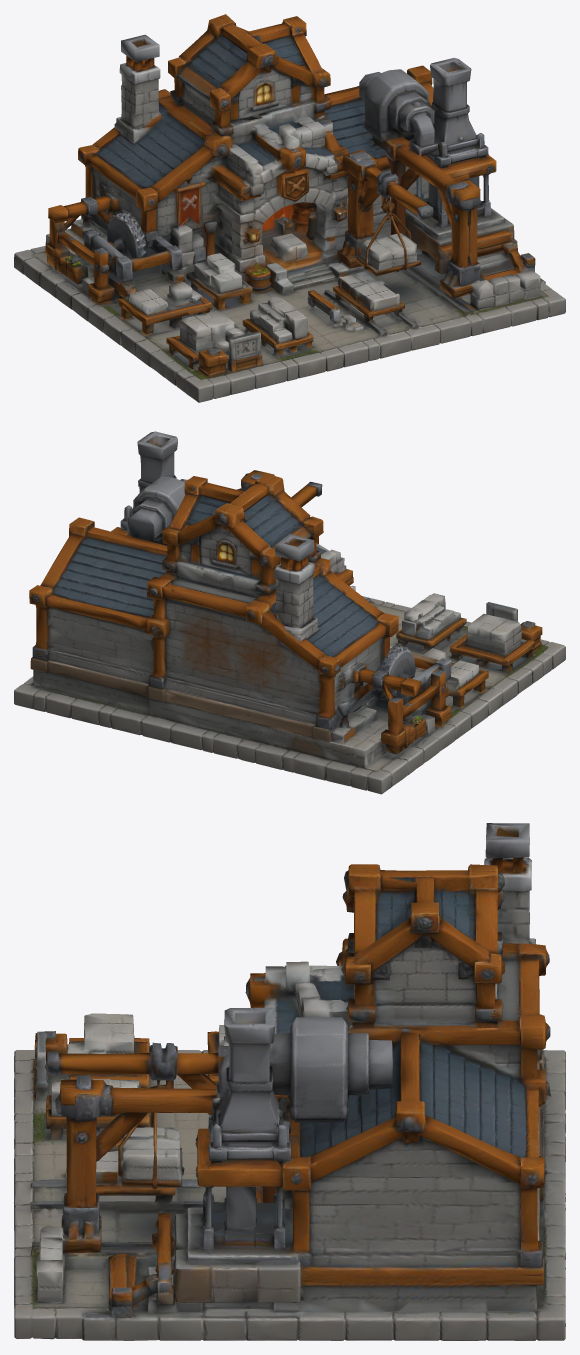
Rendered from stone_workshop_stage3.glb.
3 views of the same model, one above another, from view 1: azimuth 30°, elevation 25°; view 2: azimuth 150°, elevation 25°; view 3: azimuth 270°, elevation 25° (orthographic). The views are drawn at different scales.
Parts seen in each view (by area): view 1: tripo_node_efb9a867-65d8-4864-8209-c20c9bcfe07f; view 2: tripo_node_efb9a867-65d8-4864-8209-c20c9bcfe07f; view 3: tripo_node_efb9a867-65d8-4864-8209-c20c9bcfe07f.
Part boxes in pixels (x1,y1,x2,y2): tripo_node_efb9a867-65d8-4864-8209-c20c9bcfe07f: (14,14,565,402); tripo_node_efb9a867-65d8-4864-8209-c20c9bcfe07f: (14,431,565,794); tripo_node_efb9a867-65d8-4864-8209-c20c9bcfe07f: (14,823,565,1340).
Bounding box in the file's own units: 1 × 0.579 × 0.8642.
1 material, 1 textured.
